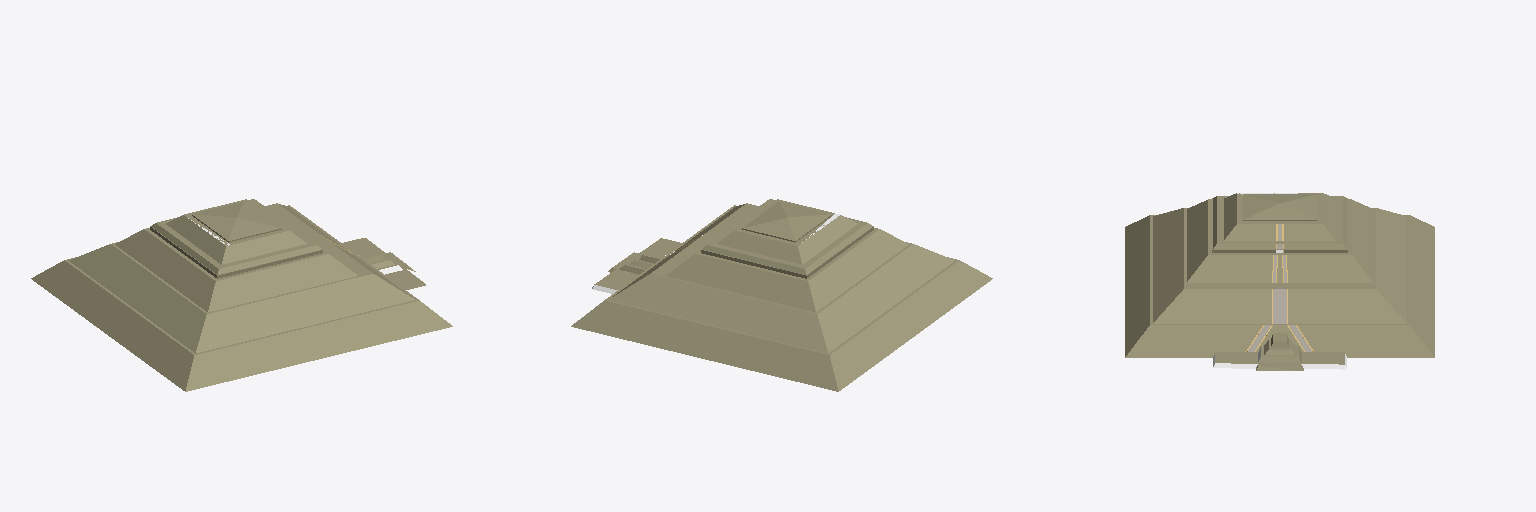
File: sun.obj
3 renders of one model, left to right at view 1: azimuth 30°, elevation 25°; view 2: azimuth 150°, elevation 25°; view 3: azimuth 270°, elevation 25°, orthographic.
Visible parts, largest first — view 1: Mesh1 Model; view 2: Mesh1 Model; view 3: Mesh1 Model.
Part boxes in pixels (bbox=[...]): Mesh1 Model: bbox=[31, 199, 452, 391]; Mesh1 Model: bbox=[571, 199, 992, 391]; Mesh1 Model: bbox=[1125, 193, 1434, 370].
Size of the model in its own units: 237 by 66.05 by 214.